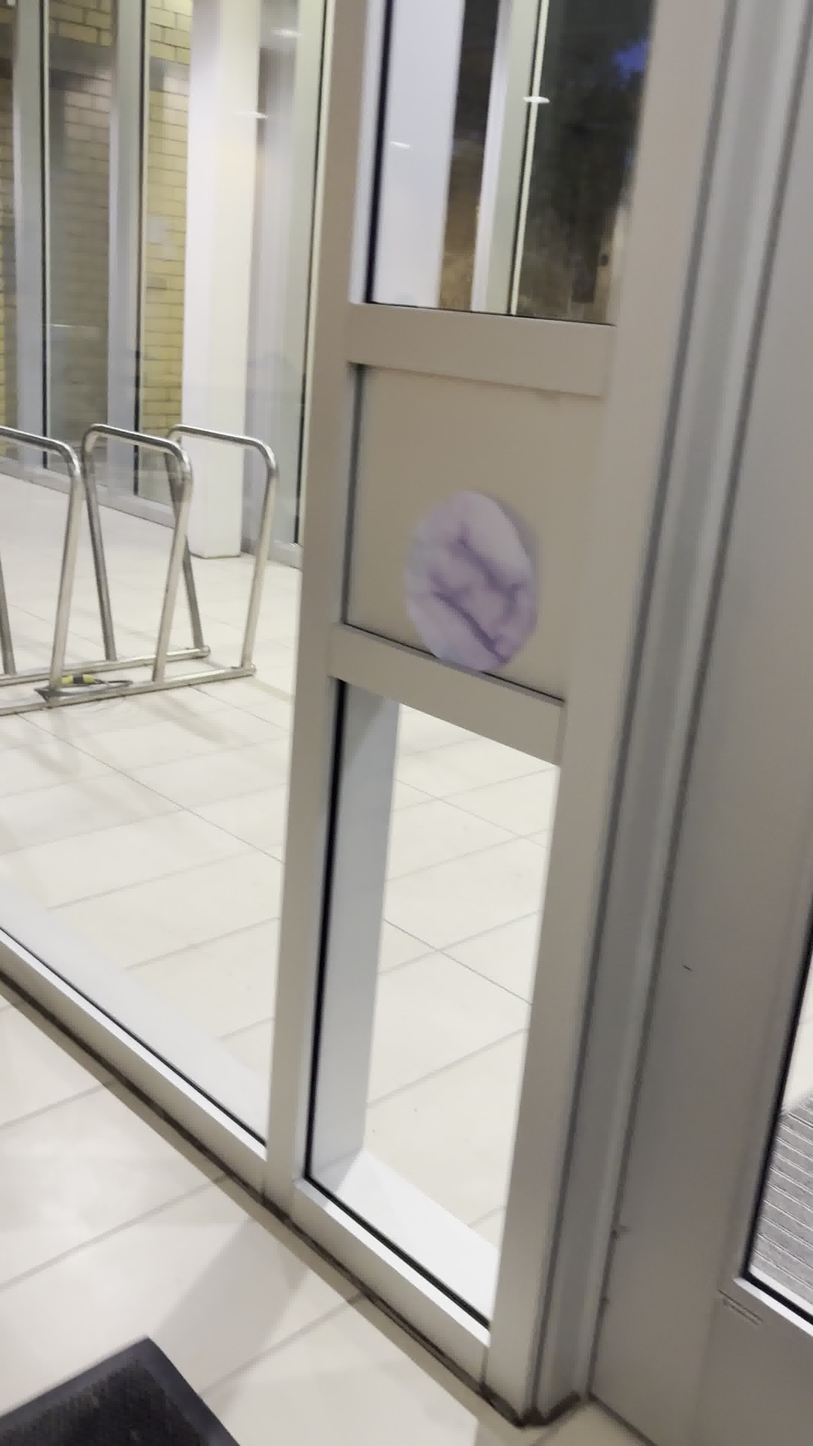Target: (395, 477, 550, 681)
